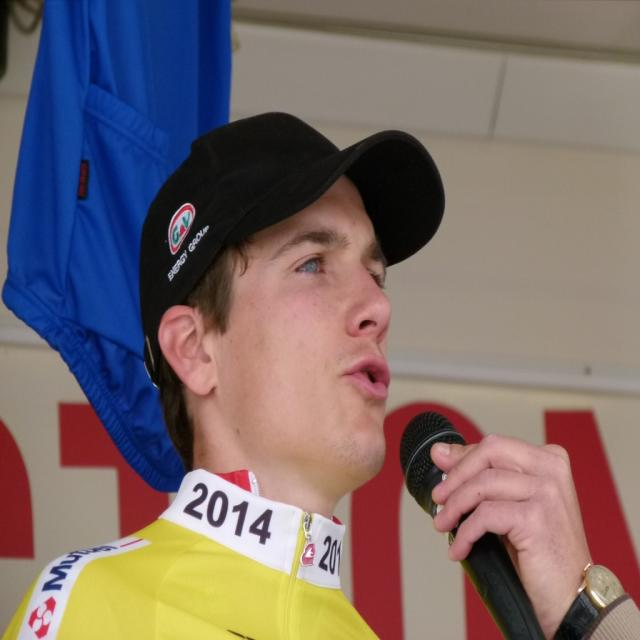Hat: (136, 109, 443, 389)
